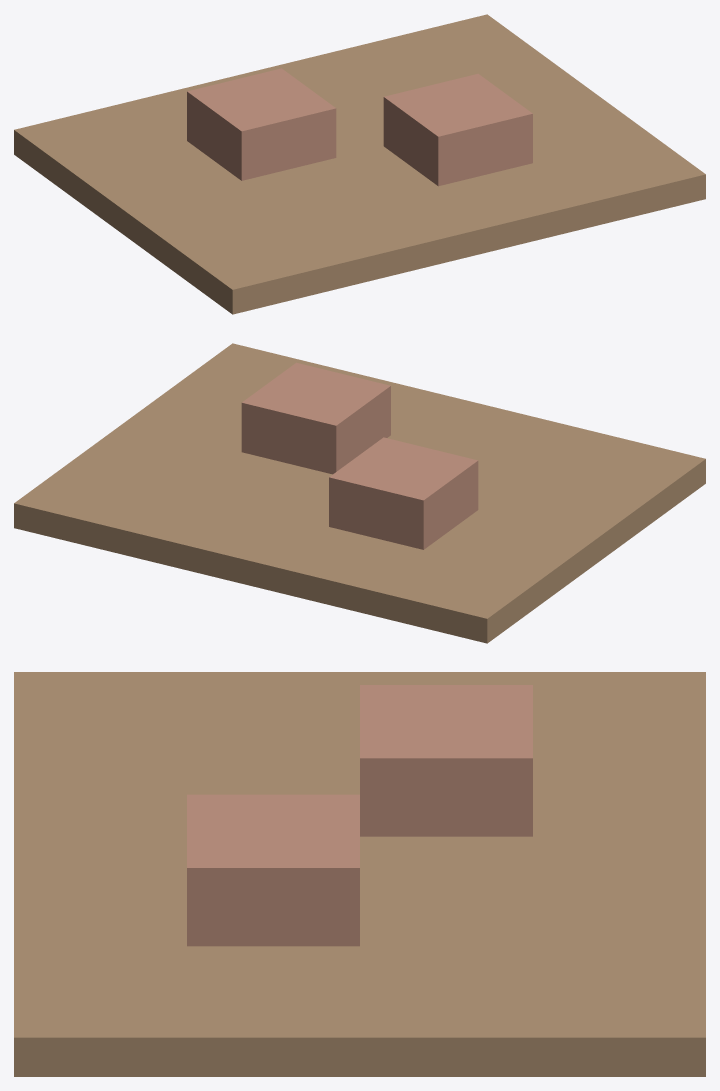
File: fishing_pier_compound.glb
3 renders of one model, top to bottom at view 1: azimuth 30°, elevation 25°; view 2: azimuth 150°, elevation 25°; view 3: azimuth 270°, elevation 25°, orthographic. The views are drawn at different scales.
Parts seen in each view (by area): view 1: pier, shed1, shed2; view 2: pier, shed1, shed2; view 3: pier, shed2, shed1.
Part boxes in pixels (x1=…): pier: x1=14, y1=14, x2=705, y2=314; shed1: x1=187, y1=68, x2=336, y2=180; shed2: x1=383, y1=73, x2=532, y2=186; pier: x1=14, y1=343, x2=705, y2=643; shed1: x1=329, y1=437, x2=478, y2=549; shed2: x1=241, y1=362, x2=390, y2=474; pier: x1=14, y1=672, x2=705, y2=1076; shed2: x1=187, y1=794, x2=359, y2=946; shed1: x1=360, y1=685, x2=532, y2=836.
Bounding box in the file's own units: 20 × 3.2 × 16.
